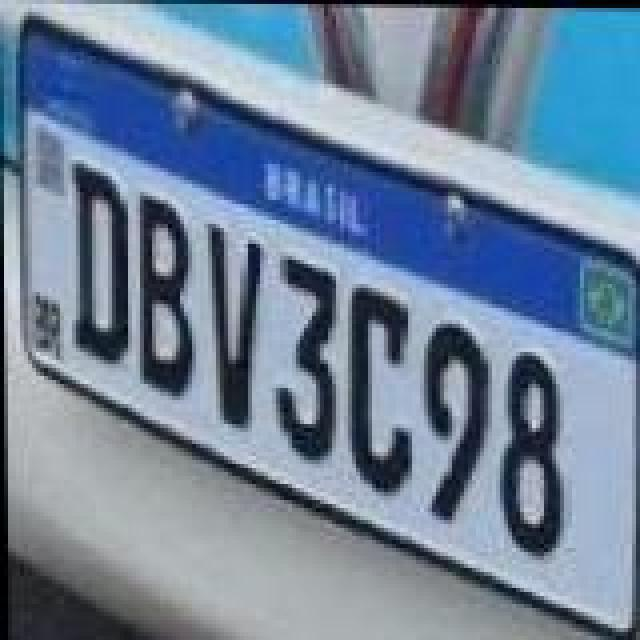3: (274, 252, 342, 460)
8: (496, 348, 564, 560)
9: (418, 320, 486, 524)
B: (134, 196, 194, 400)
C: (346, 280, 414, 496)
D: (70, 164, 130, 368)
V: (206, 218, 266, 426)
